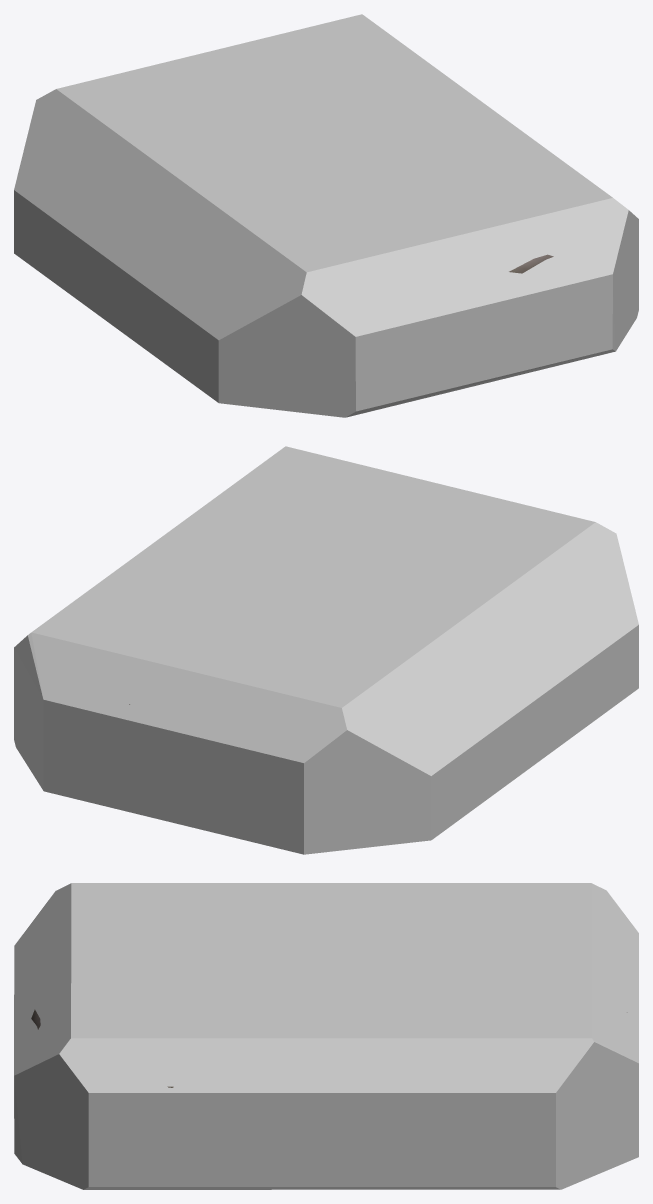
File: SM_Cobble_A.fbx
3 renders of one model, top to bottom at view 1: azimuth 30°, elevation 25°; view 2: azimuth 150°, elevation 25°; view 3: azimuth 270°, elevation 25°, orthographic. The views are drawn at different scales.
Visible parts, largest first — view 1: SM_Cobble_A_ConvexHulls; view 2: SM_Cobble_A_ConvexHulls; view 3: SM_Cobble_A_ConvexHulls.
Boxes of the visible parts, bbox=[...] form: SM_Cobble_A_ConvexHulls: bbox=[14, 14, 638, 417]; SM_Cobble_A_ConvexHulls: bbox=[14, 446, 638, 854]; SM_Cobble_A_ConvexHulls: bbox=[14, 883, 638, 1189].
Bounding box in the file's own units: 66.8 × 85.84 × 20.92.
